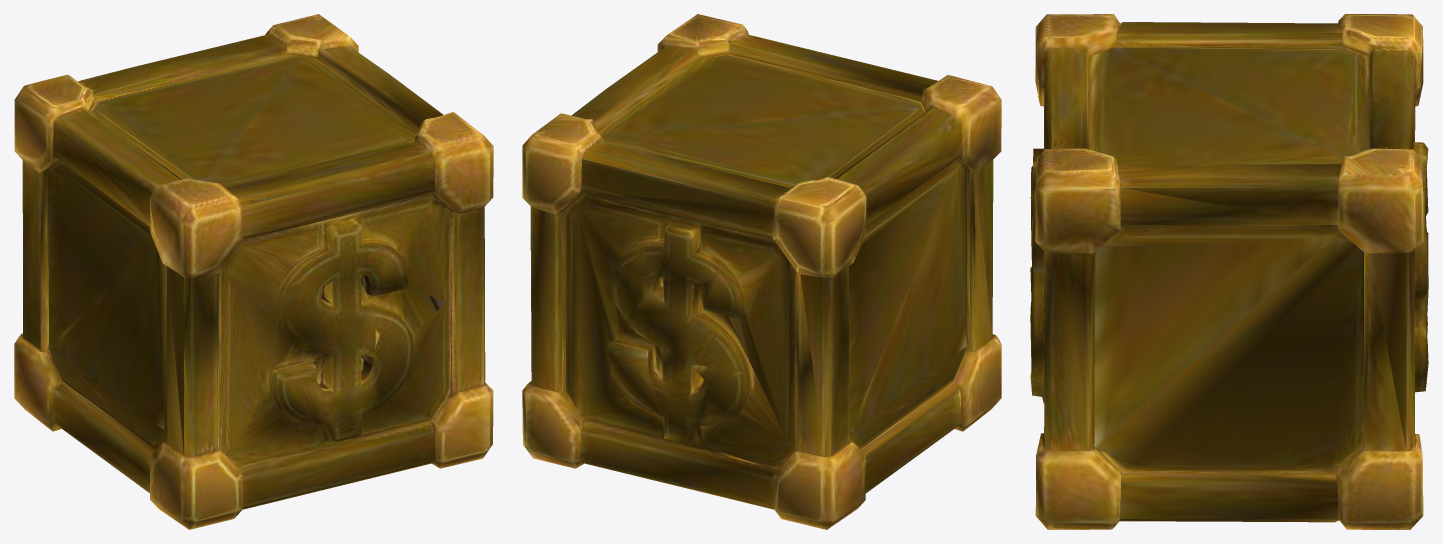
Rendered from ouro-CC7fQ2SO.glb.
The picture shows the model from 3 angles, left to right: view 1: azimuth 30°, elevation 25°; view 2: azimuth 150°, elevation 25°; view 3: azimuth 270°, elevation 25°; orthographic projection. The views are drawn at different scales.
Visible parts, largest first — view 1: objeto; view 2: objeto; view 3: objeto.
Part boxes in pixels (box(x1,y1,x2,y2)): objeto: box(14, 14, 493, 529); objeto: box(522, 14, 1001, 529); objeto: box(1030, 14, 1428, 529).
Size of the model in its own units: 1 by 1 by 0.9984.
Materials: 1 (1 with a texture image).
